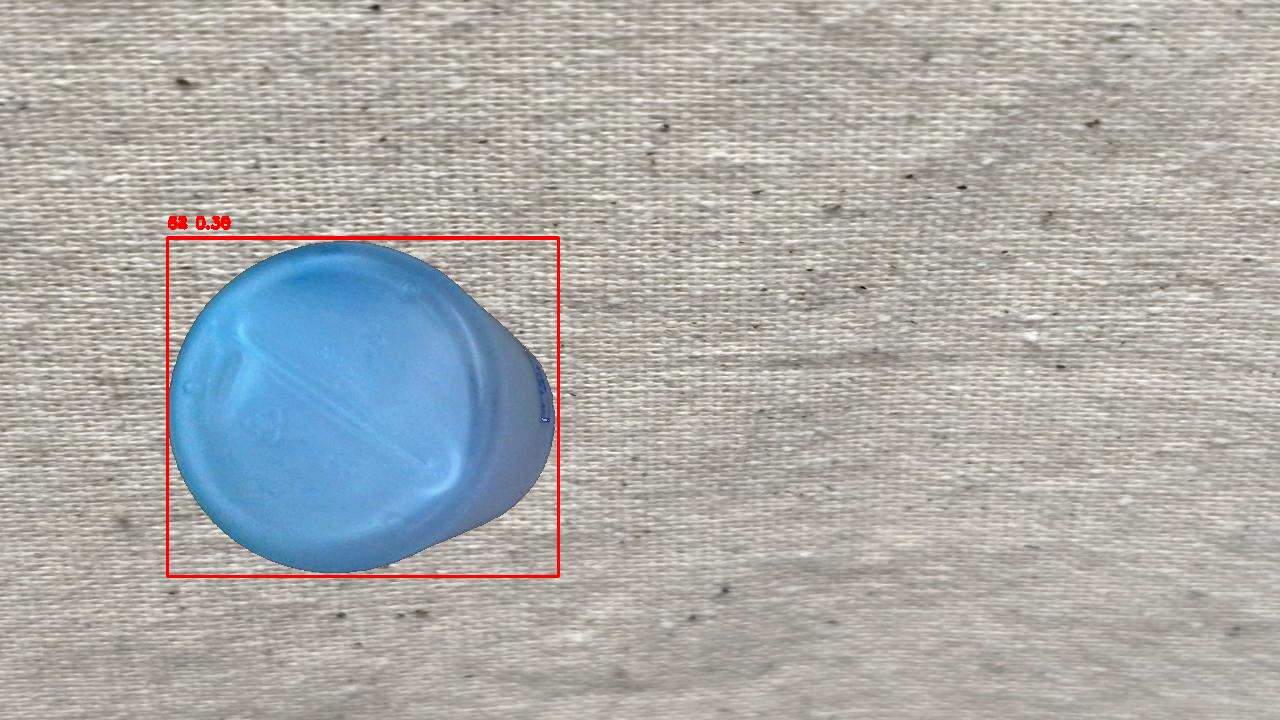cup: (167, 237, 558, 576), (167, 238, 558, 576)
